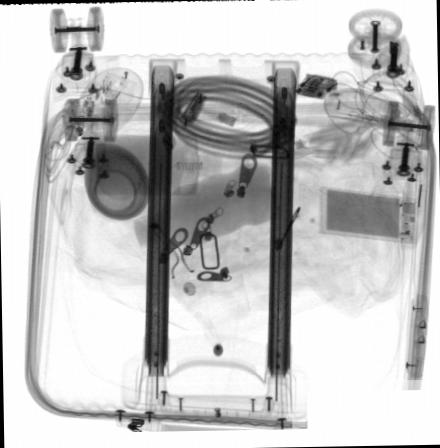Powerbank: (319, 186, 418, 244)
